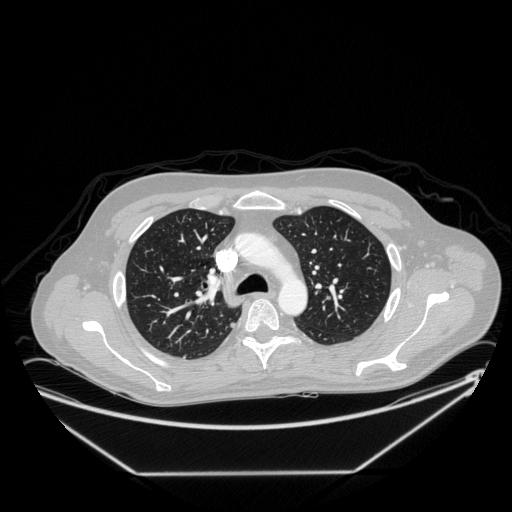nodule: (227, 320, 237, 330)
